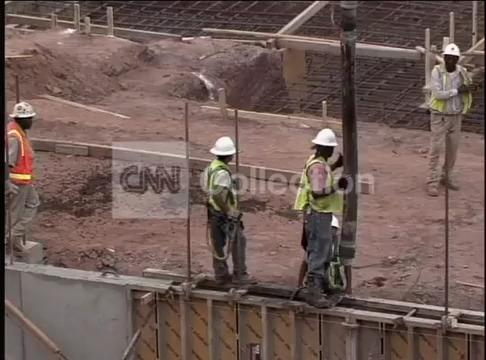Gloves: (223, 204, 246, 223)
Helmet: (209, 135, 236, 156), (10, 103, 35, 122), (312, 126, 334, 147), (444, 46, 464, 59)
Person: (293, 127, 349, 307), (415, 42, 473, 196), (199, 135, 257, 285), (0, 101, 42, 260)
Safety Boot: (234, 270, 262, 288), (306, 293, 337, 308), (7, 238, 27, 258), (438, 176, 457, 193), (217, 270, 236, 283), (425, 183, 438, 196)
Safety Vest: (302, 165, 336, 215), (201, 167, 234, 217), (4, 132, 32, 182), (430, 70, 463, 112)
bare-arms: (460, 79, 476, 94), (337, 175, 350, 192), (333, 155, 347, 169)
